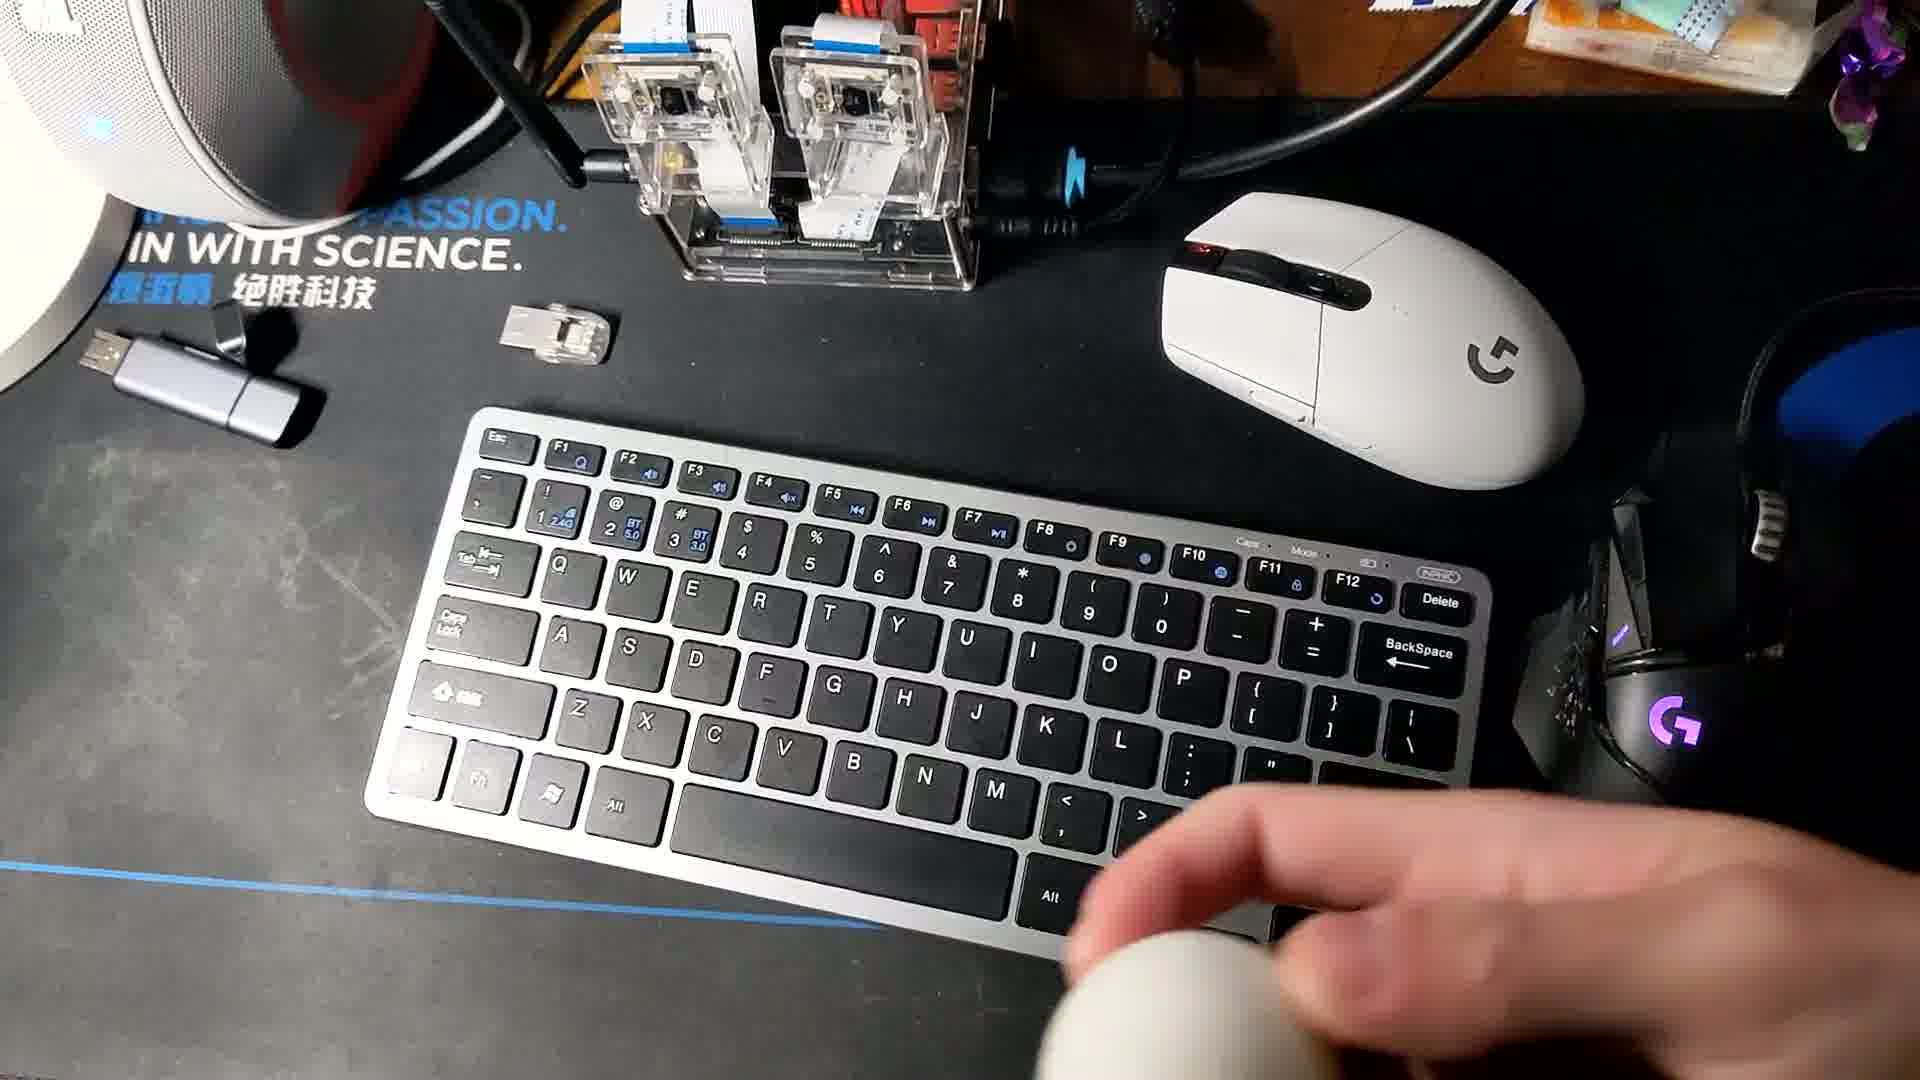Ball: (1025, 938, 1333, 1080)
